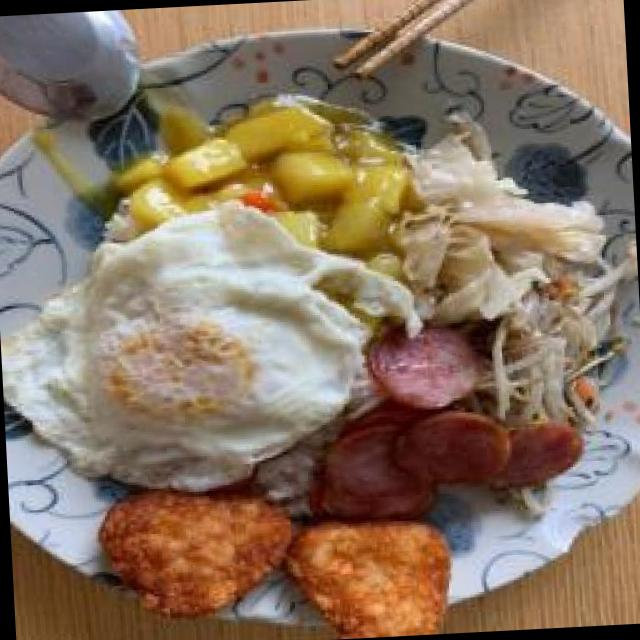chinese_cabbage: (408, 125, 611, 325)
chinese_sausage: (305, 316, 588, 520)
curry: (98, 88, 416, 254)
fried_eggs: (0, 202, 383, 496)
mung_bean_sprouts: (493, 270, 619, 426)
rice: (94, 202, 140, 247)
triangle_hash_brown: (96, 478, 457, 640)
